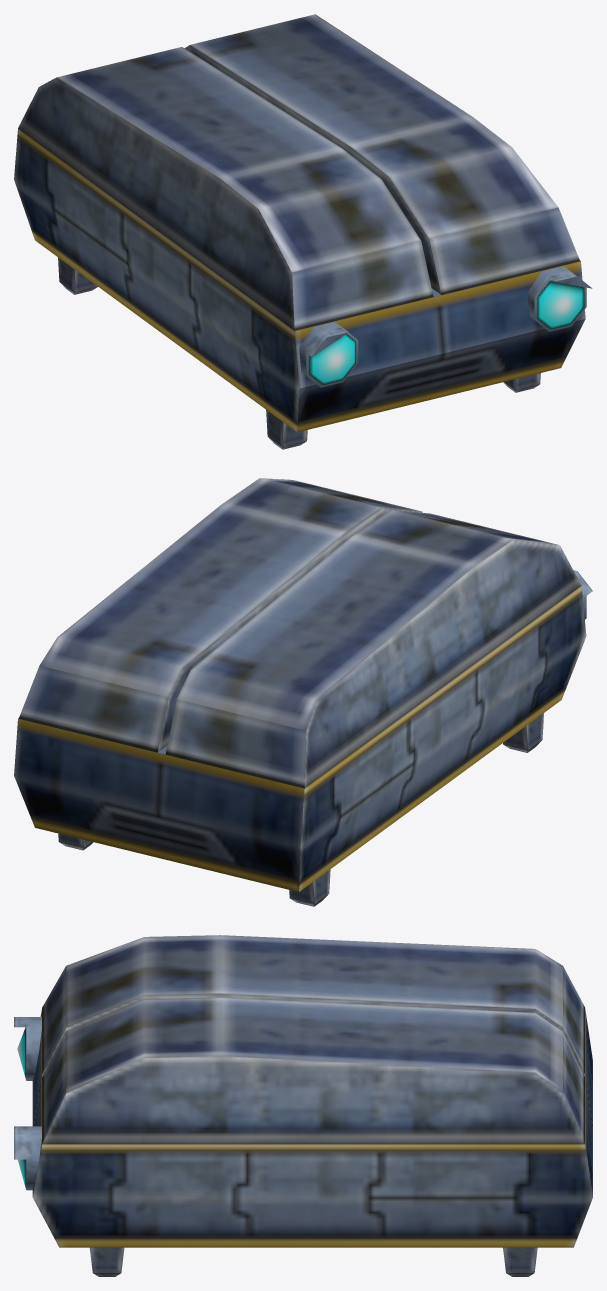
The model's file is TestBuilding.gltf.
3 renders of one model, top to bottom at view 1: azimuth 30°, elevation 25°; view 2: azimuth 150°, elevation 25°; view 3: azimuth 270°, elevation 25°, orthographic. The views are drawn at different scales.
Visible parts, largest first — view 1: tools_Torso; view 2: tools_Torso; view 3: tools_Torso.
Part boxes in pixels (x1,y1,x2,y2): tools_Torso: [14, 14, 592, 449]; tools_Torso: [14, 478, 592, 906]; tools_Torso: [14, 935, 592, 1276].
Bounding box in the file's own units: 10.87 × 8.19 × 19.41.
1 material, 1 textured.
